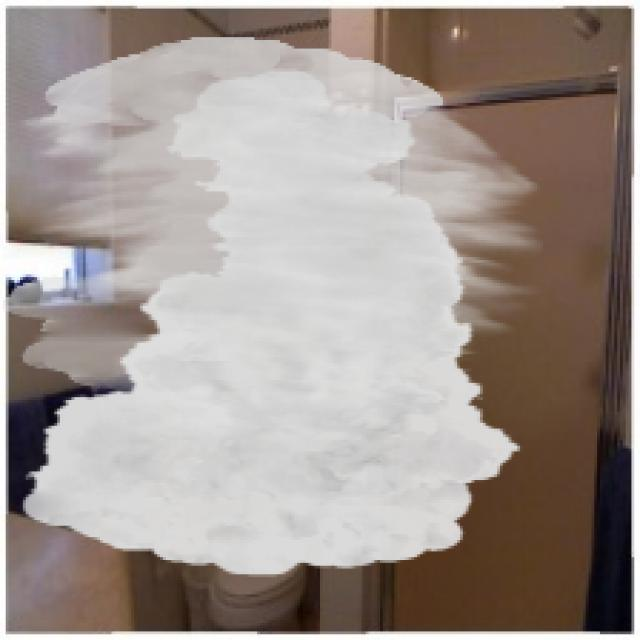smoke: (3, 37, 543, 577)
